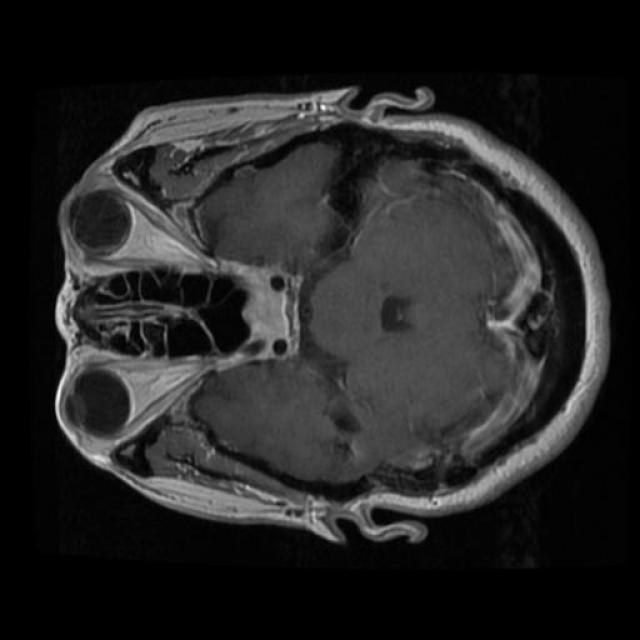Pituitary: (233, 265, 304, 361)
